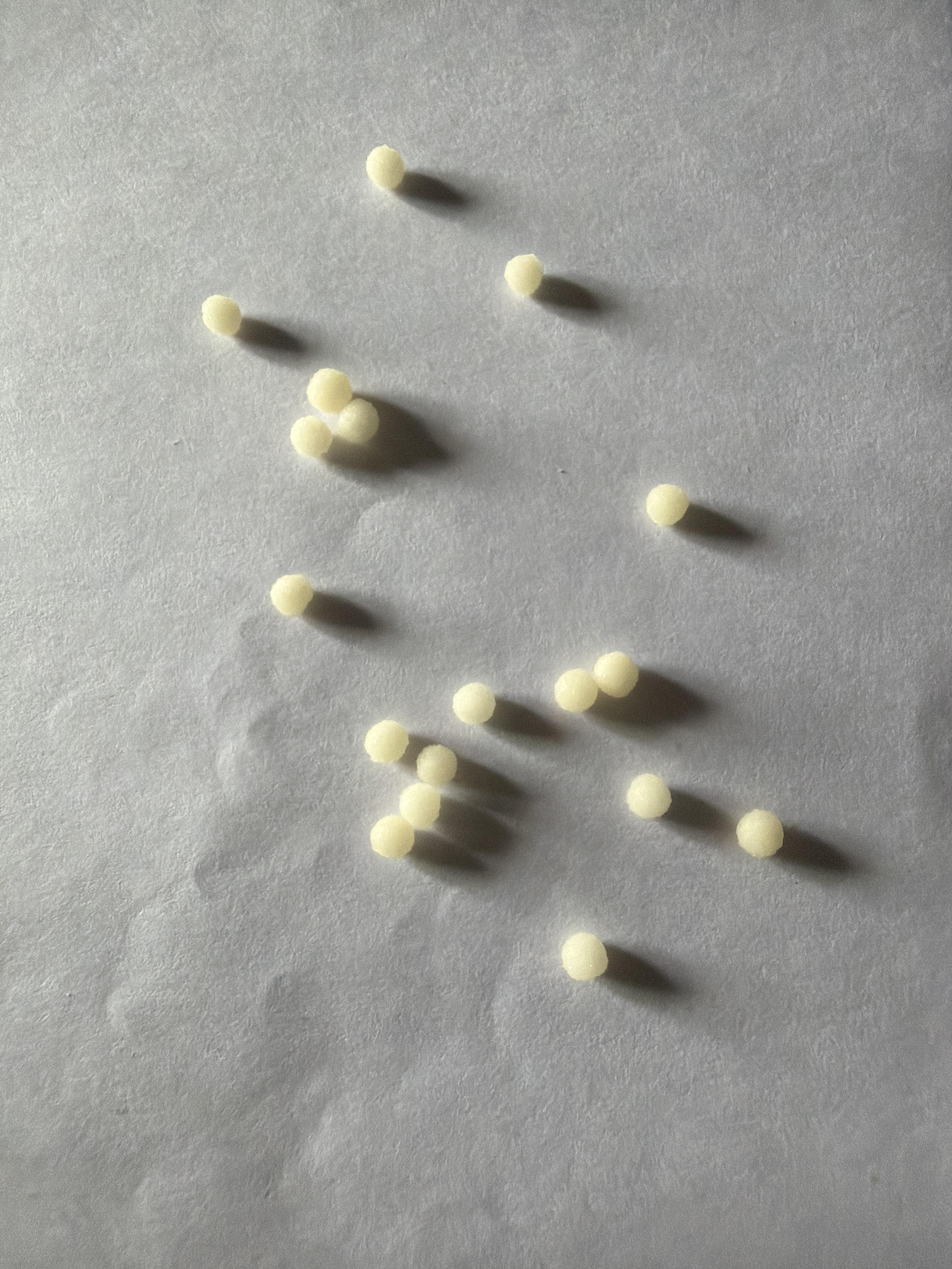pill: (736, 809, 783, 857), (592, 651, 638, 698), (562, 933, 608, 980), (626, 773, 672, 819), (307, 368, 352, 414), (554, 669, 598, 713), (364, 720, 409, 763), (336, 398, 379, 443), (370, 815, 414, 858), (399, 783, 440, 829), (452, 682, 496, 724), (290, 415, 332, 458), (646, 484, 689, 526), (270, 575, 313, 616), (416, 744, 457, 786), (366, 145, 405, 189), (504, 254, 544, 296), (202, 295, 241, 336)
